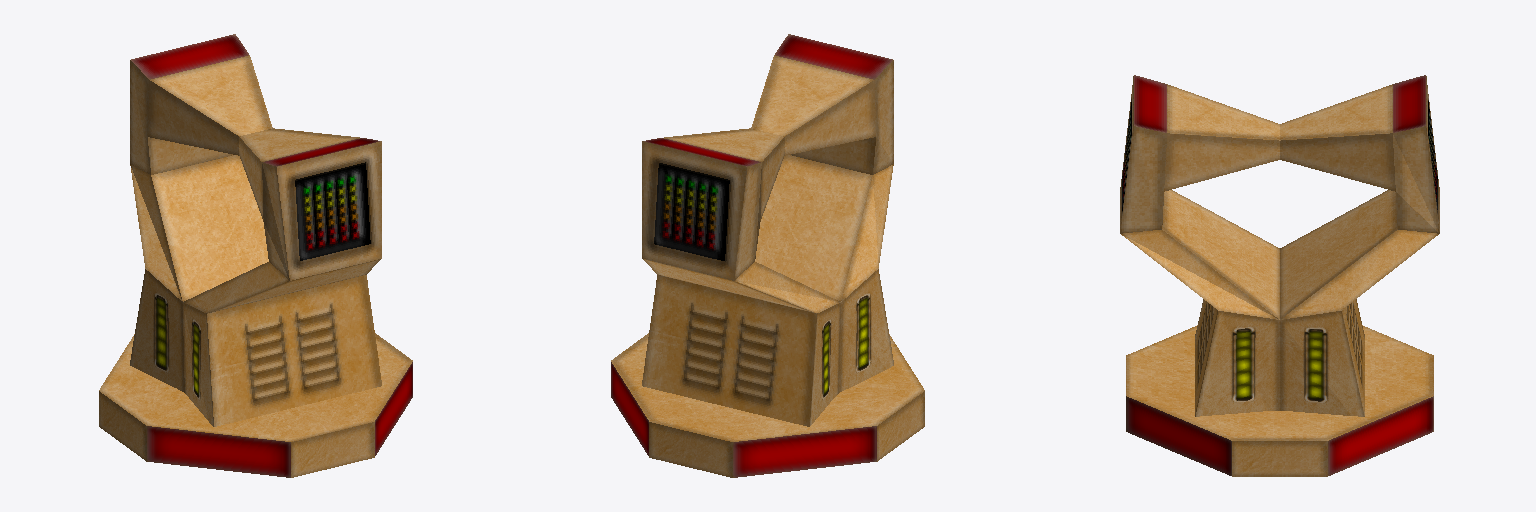
3 renders of one model, left to right at view 1: azimuth 30°, elevation 25°; view 2: azimuth 150°, elevation 25°; view 3: azimuth 270°, elevation 25°, orthographic.
Visible parts, largest first — view 1: cube1_sep5, cube1_sep2; view 2: cube1_sep5, cube1_sep2; view 3: cube1_sep5, cube1_sep2.
Boxes of the visible parts, <box> form: cube1_sep5: <box>130,34,381,426</box>; cube1_sep2: <box>99,333,412,477</box>; cube1_sep5: <box>642,34,893,426</box>; cube1_sep2: <box>611,333,924,477</box>; cube1_sep5: <box>1120,75,1439,416</box>; cube1_sep2: <box>1126,325,1433,476</box>.
Size of the model in its own units: 3.19 by 3.56 by 3.31.
2 materials, 1 textured.